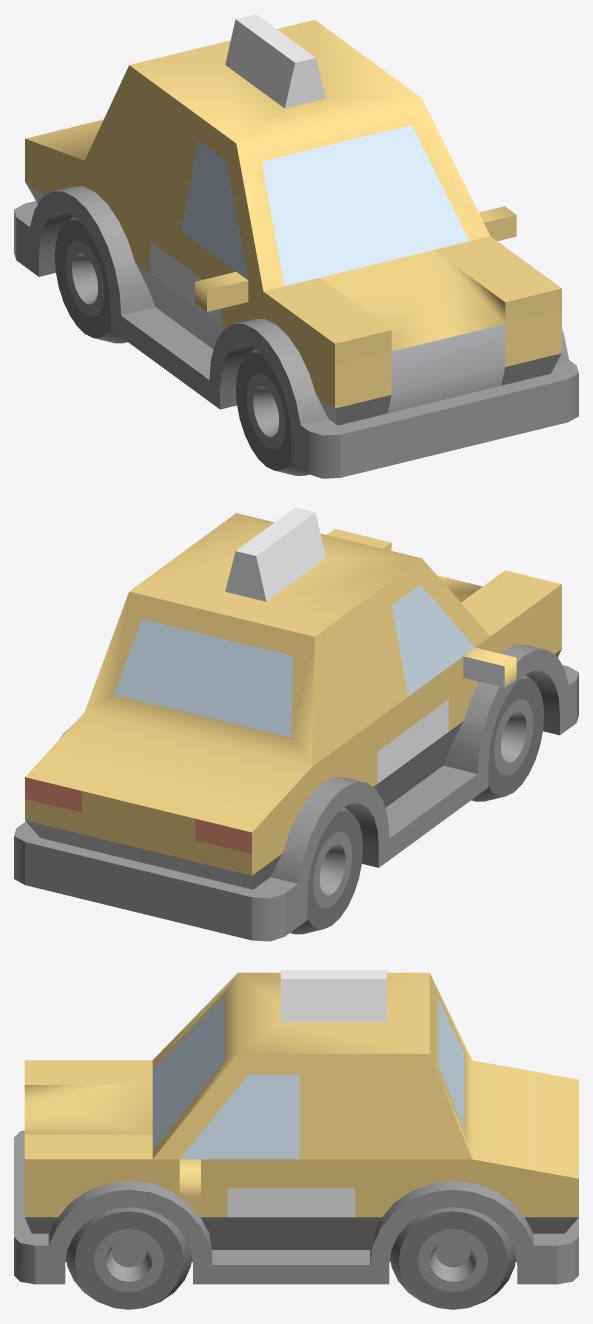
The model's file is car12.fbx.
3 renders of one model, top to bottom at view 1: azimuth 30°, elevation 25°; view 2: azimuth 150°, elevation 25°; view 3: azimuth 270°, elevation 25°, orthographic. The views are drawn at different scales.
Parts seen in each view (by area): view 1: car.011; view 2: car.011; view 3: car.011.
Part boxes in pixels (box(x1,y1,x2,y2)): car.011: box(14, 14, 578, 478); car.011: box(14, 507, 578, 941); car.011: box(14, 970, 578, 1309).
Bounding box in the file's own units: 240 × 240 × 424.
